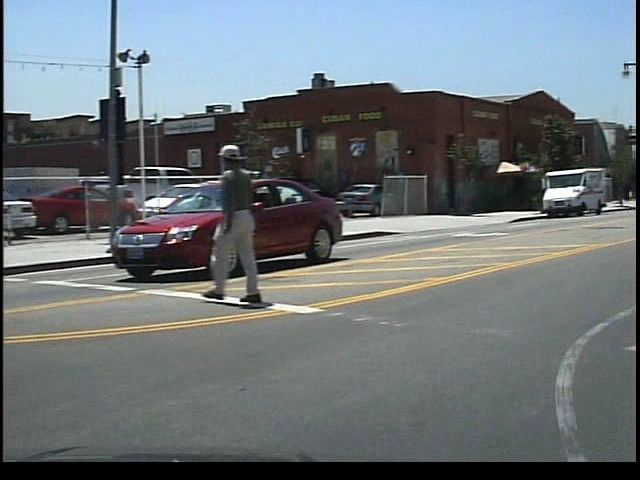person: (209, 143, 290, 311)
